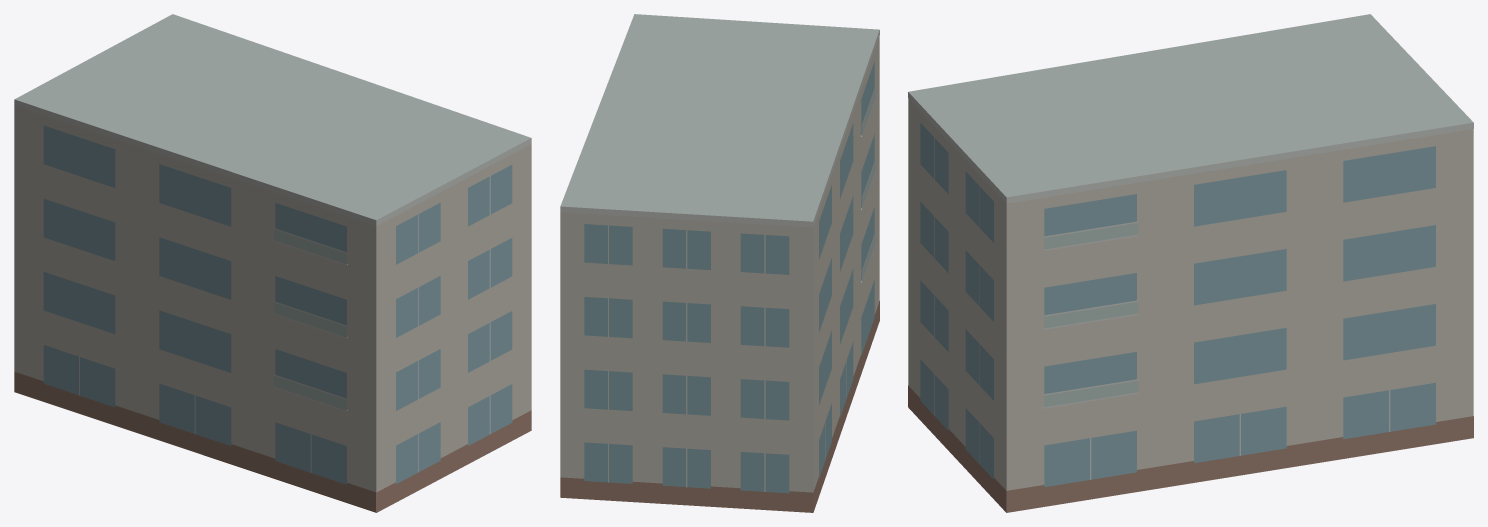
Rendered from survey-upis-32904272.glb.
The picture shows the model from 3 angles, left to right: view 1: azimuth 30°, elevation 25°; view 2: azimuth 150°, elevation 25°; view 3: azimuth 270°, elevation 25°; orthographic projection. The views are drawn at different scales.
Parts seen in each view (by area): view 1: survey-upis-32904272.tmp; view 2: survey-upis-32904272.tmp; view 3: survey-upis-32904272.tmp.
Part boxes in pixels (box(x1,y1,x2,y2)): survey-upis-32904272.tmp: box(14, 14, 531, 512); survey-upis-32904272.tmp: box(560, 14, 879, 512); survey-upis-32904272.tmp: box(908, 14, 1473, 512).
Bounding box in the file's own units: 15.22 × 12.2 × 19.84.
